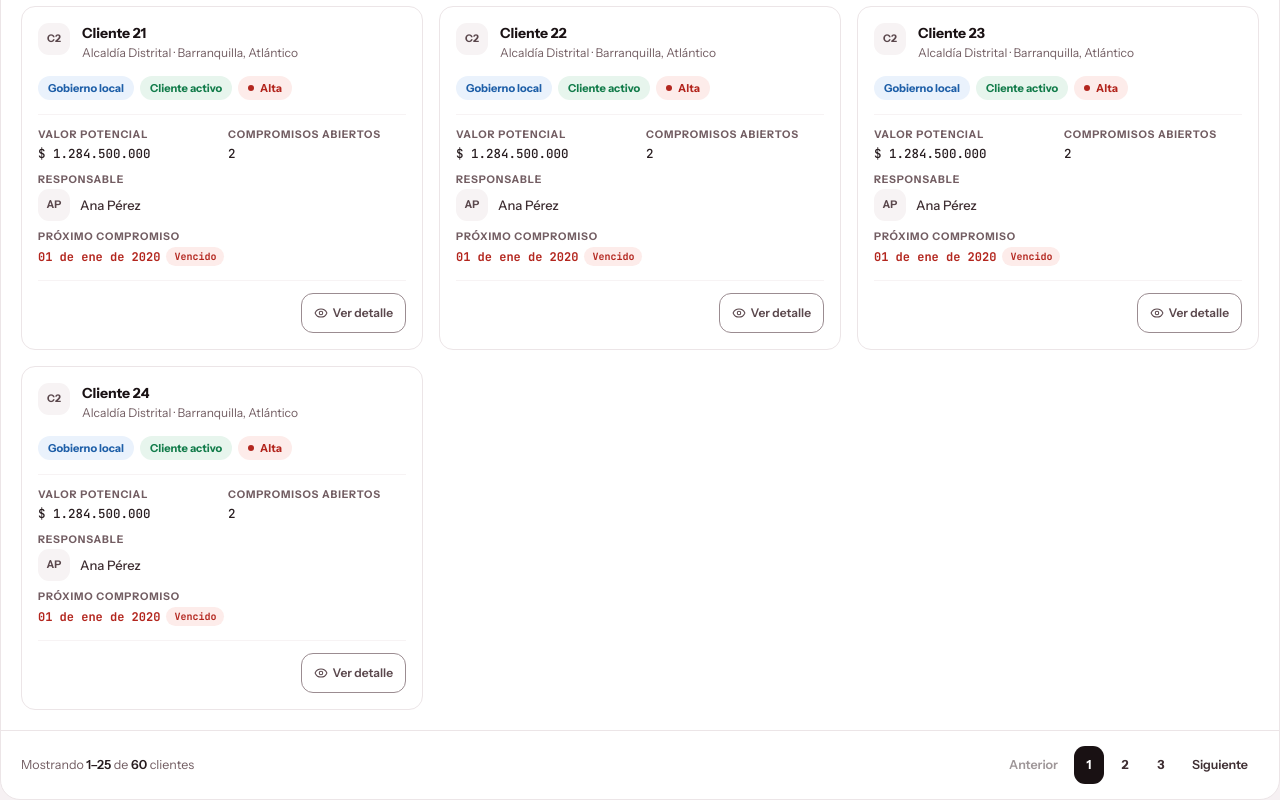
it: ClientList › shows the pagination footer and pages through results
(page scrolled)
Check: the button "Anterior" is disabled, box left=998, top=745, right=1069, bottom=785
Click the button "Siguiente" at {"x": 1220, "y": 765}, box left=1181, top=745, right=1259, bottom=785
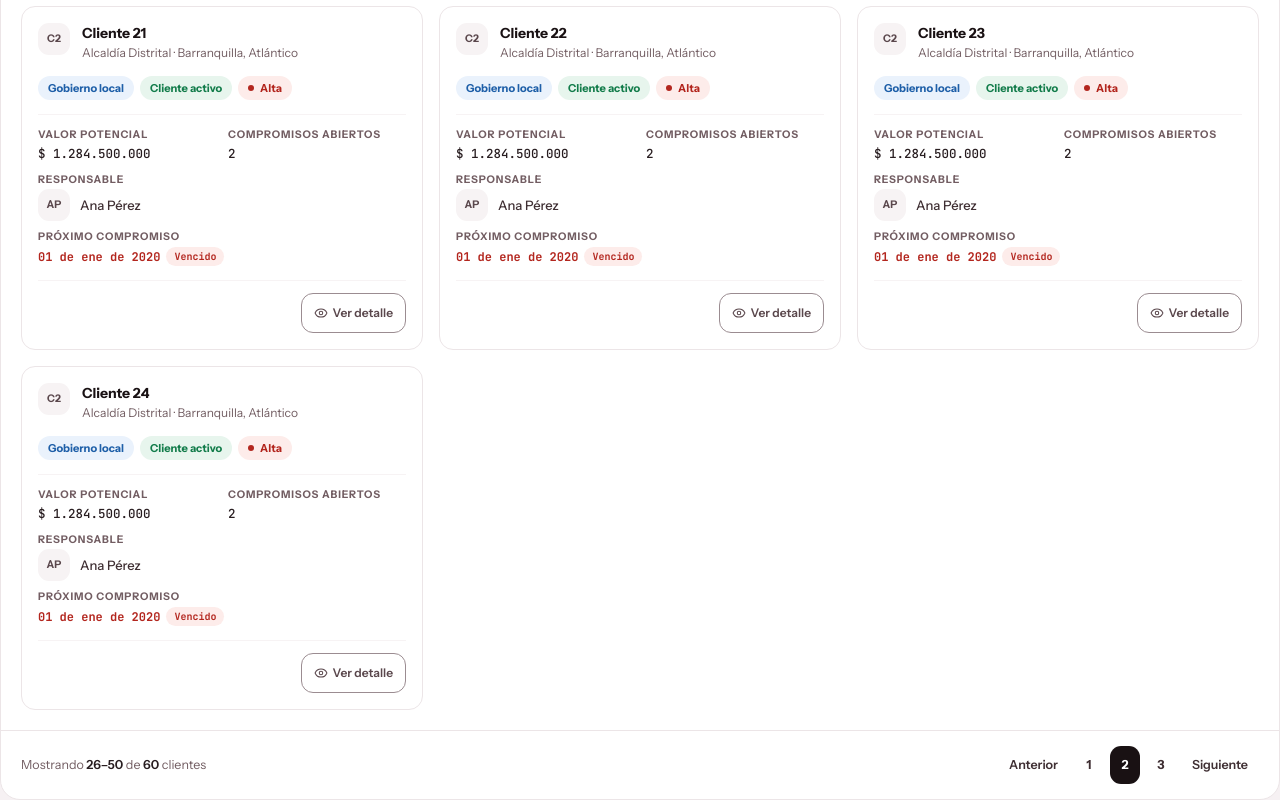
Click the button "Siguiente" at {"x": 1220, "y": 765}, box left=1181, top=745, right=1259, bottom=785
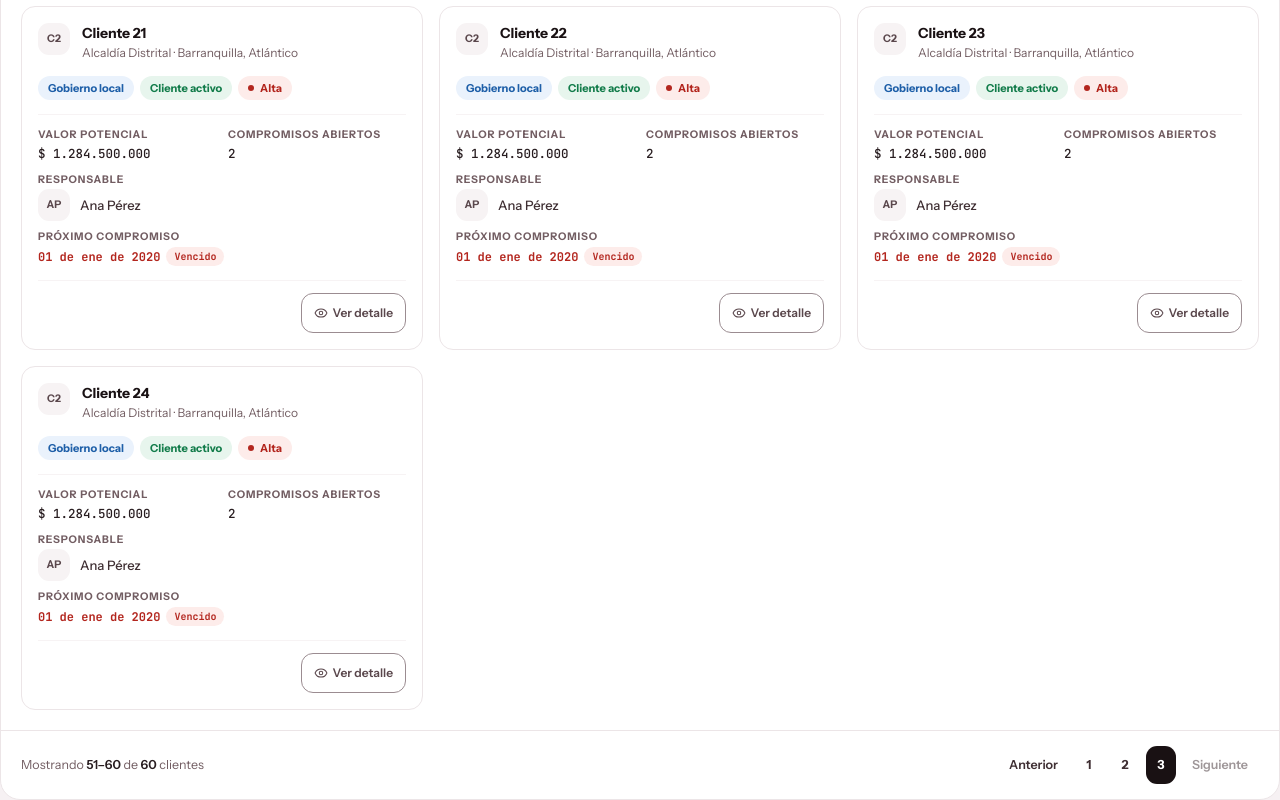
Check: the button "Siguiente" is disabled, box left=1181, top=745, right=1259, bottom=785
